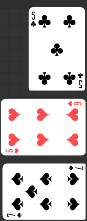4H: (66, 101, 82, 108)
5C: (29, 11, 37, 29)
7C: (67, 165, 84, 172)
